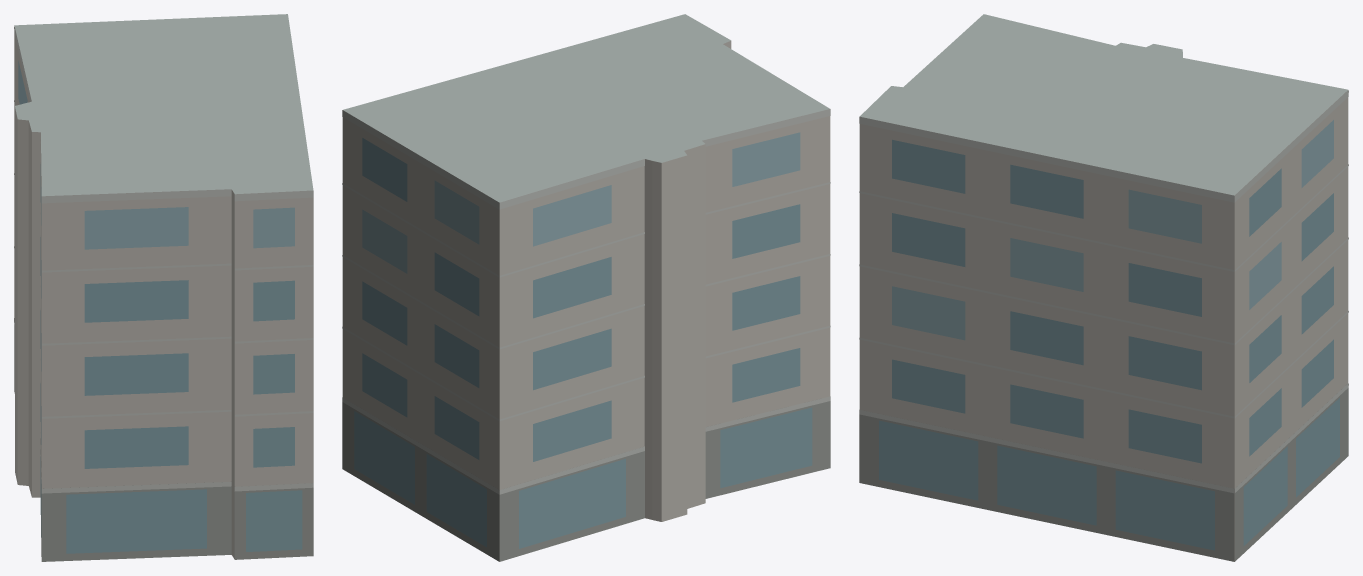
File: survey-upis-32725434.glb
The picture shows the model from 3 angles, left to right: view 1: azimuth 30°, elevation 25°; view 2: azimuth 150°, elevation 25°; view 3: azimuth 270°, elevation 25°; orthographic projection.
Parts seen in each view (by area): view 1: survey-upis-32725434.tmp; view 2: survey-upis-32725434.tmp; view 3: survey-upis-32725434.tmp.
Part boxes in pixels (bbox=[...]): survey-upis-32725434.tmp: bbox=[14, 14, 313, 561]; survey-upis-32725434.tmp: bbox=[342, 14, 830, 561]; survey-upis-32725434.tmp: bbox=[859, 14, 1348, 561].
Bounding box in the file's own units: 13.42 × 12.6 × 15.27.
